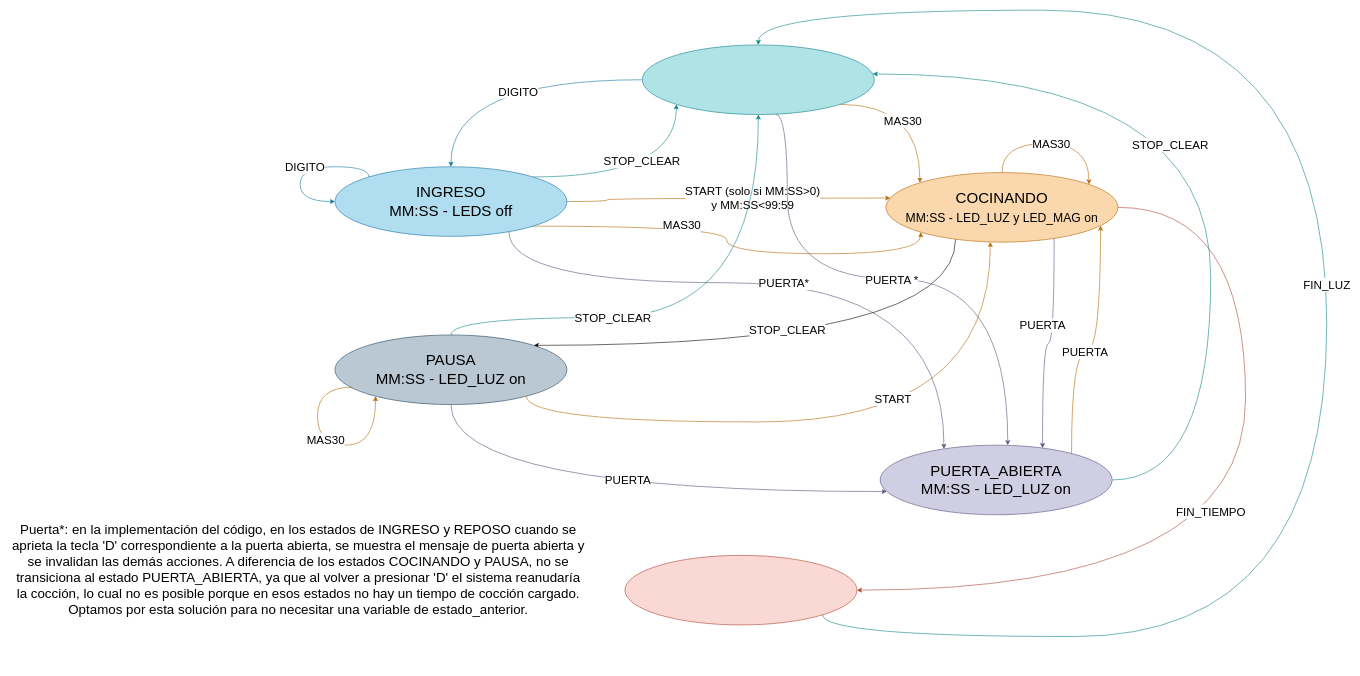
Image size: 1360x676. Some labels were removed from this diagram. Here are the shapes that lost their labels. From the top down, the box of each, then its label:
(642, 44, 874, 115): REPOSO 00:00 - LEDS off
(624, 555, 857, 625): FIN 00:00 - LED_ALR on (blink)
